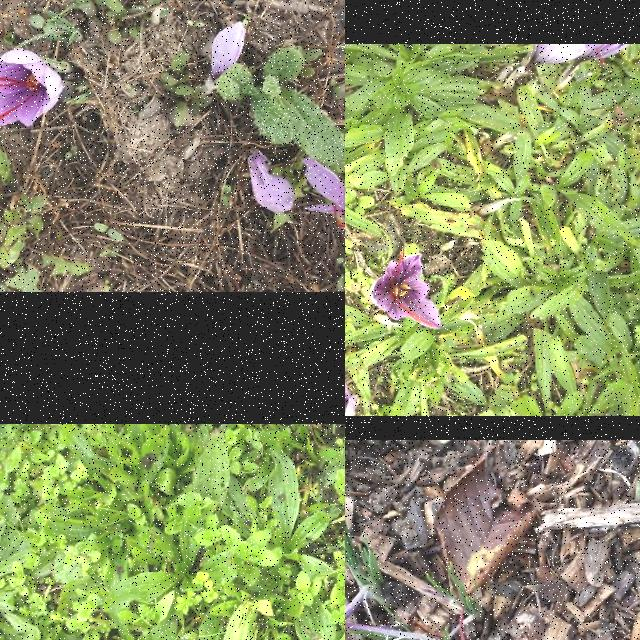flower: (370, 252, 442, 330), (0, 47, 65, 129), (210, 22, 248, 80)
